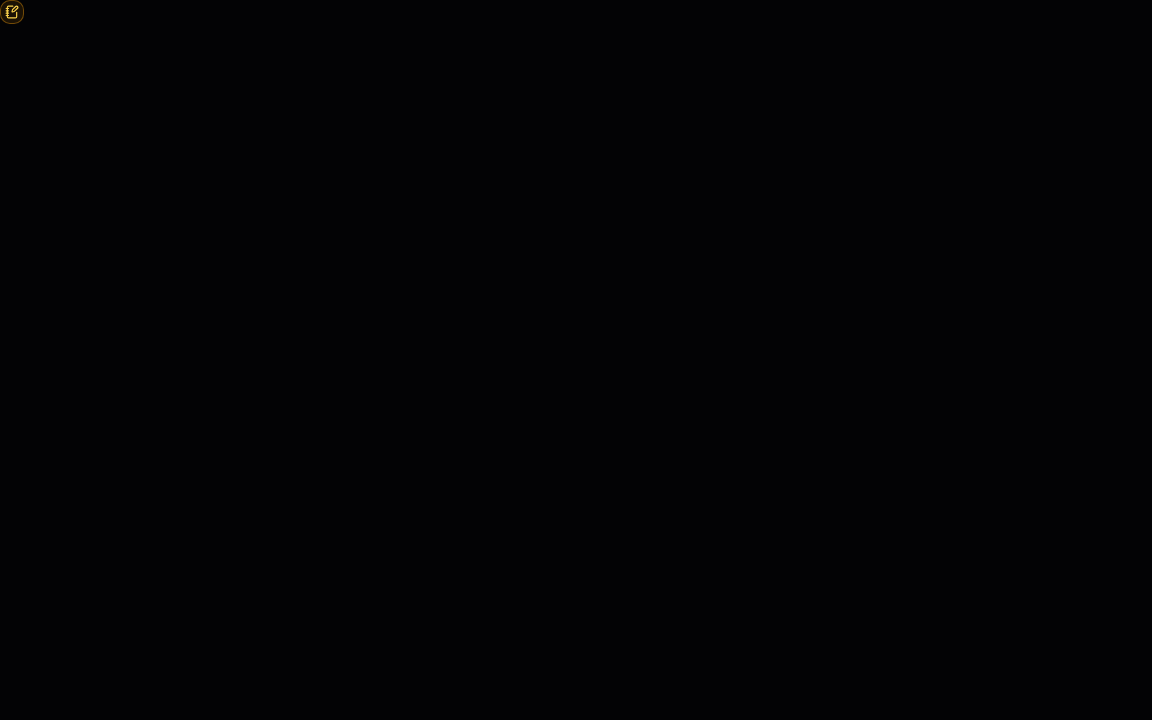
Test case: ProblemNoteQuickEdit — Clear button visibility › shows the Clear button once a note exists
What coordinates should you click on to do the following:
click the button named "edit personal note for two sum"
I would click on:
 (12, 12)
Its box is [0, 0, 24, 24].
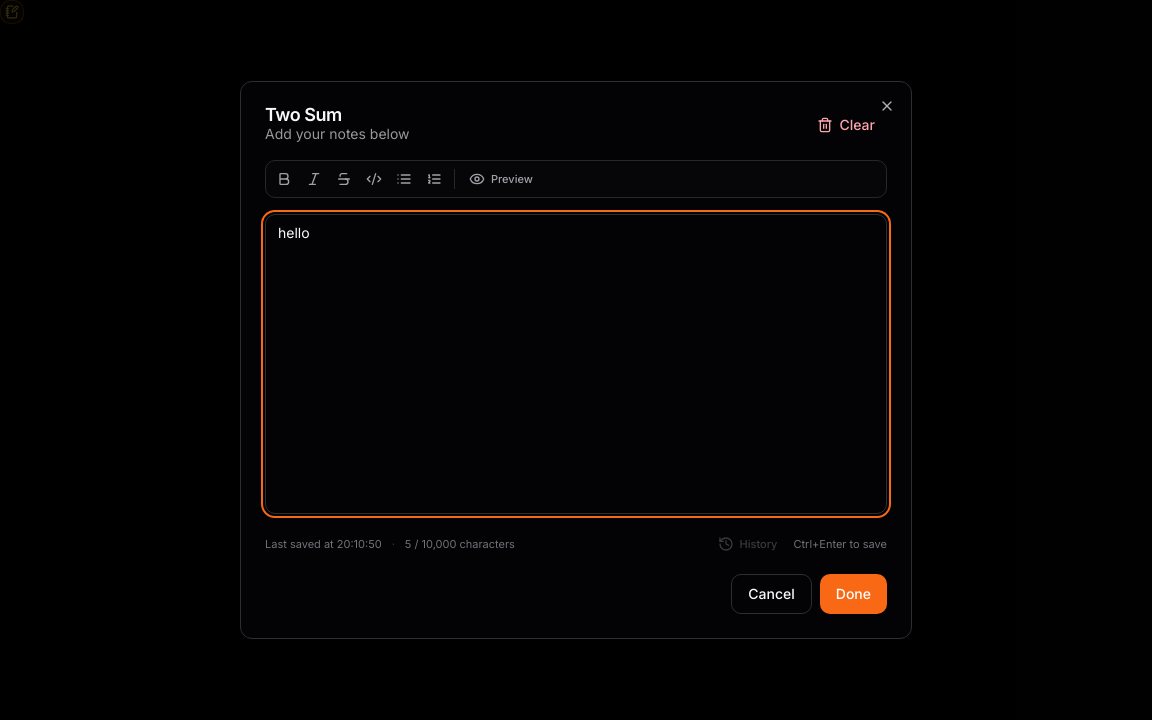
Now the button with aria-label "delete note for two sum" is shown, box [806, 109, 887, 141]
